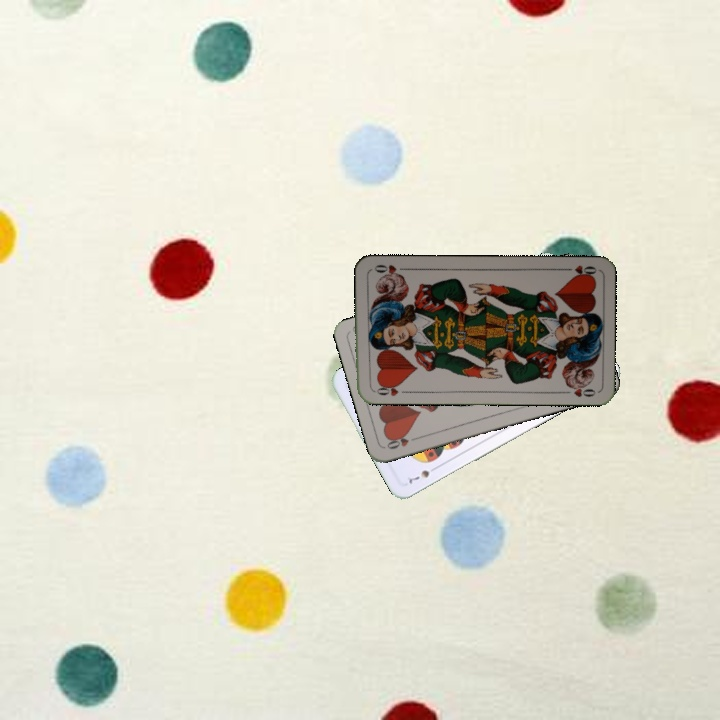HO: (383, 431, 422, 452), (369, 380, 410, 399), (558, 261, 599, 280)
S7: (405, 462, 440, 487)
